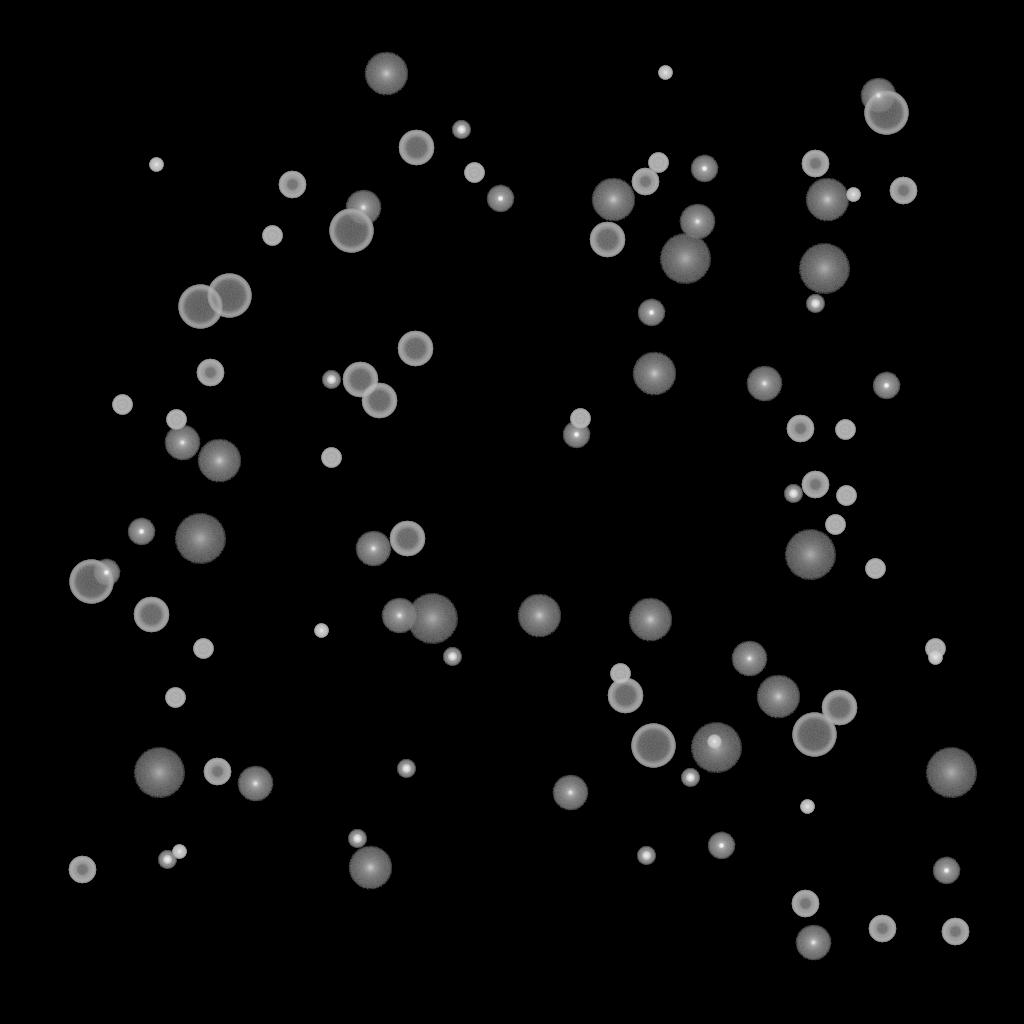depth:-10: (486, 185, 514, 213), (707, 832, 735, 860), (690, 155, 718, 183), (872, 372, 900, 400), (562, 421, 590, 449), (932, 857, 960, 885), (92, 559, 120, 587), (637, 299, 665, 327), (127, 518, 155, 546)
depth:-20: (452, 121, 470, 139), (348, 830, 366, 848), (322, 371, 340, 389), (158, 851, 176, 869), (784, 485, 802, 503), (681, 769, 699, 787), (806, 295, 824, 313), (443, 648, 461, 666), (397, 760, 415, 778), (637, 847, 655, 865)
depth:-30: (149, 158, 163, 172), (928, 651, 942, 665), (658, 66, 672, 80), (314, 624, 328, 638), (800, 800, 814, 814), (707, 735, 721, 749), (846, 188, 860, 202), (172, 845, 186, 859)
depth:-40: (835, 420, 855, 440), (825, 515, 845, 535), (836, 486, 856, 506), (112, 395, 132, 415), (648, 153, 668, 173), (262, 226, 282, 246), (925, 639, 945, 659), (165, 688, 185, 708), (865, 559, 885, 579), (610, 664, 630, 684), (464, 163, 484, 183), (570, 409, 590, 429), (166, 410, 186, 430), (321, 448, 341, 468), (193, 639, 213, 659)
depth:-50: (786, 415, 814, 443), (889, 177, 917, 205), (941, 918, 969, 946), (203, 758, 231, 786), (278, 171, 306, 199), (196, 359, 224, 387), (801, 471, 829, 499), (631, 168, 659, 196), (801, 150, 829, 178), (68, 856, 96, 884), (791, 890, 819, 918), (868, 915, 896, 943)
depth:-60: (342, 362, 378, 398), (607, 678, 643, 714), (389, 521, 425, 557), (361, 383, 397, 419), (133, 597, 169, 633), (398, 130, 434, 166), (589, 222, 625, 258), (397, 331, 433, 367), (821, 690, 857, 726)
depth:-70: (792, 713, 836, 757), (864, 91, 908, 135), (631, 724, 675, 768), (329, 209, 373, 253), (178, 285, 222, 329), (207, 274, 251, 318), (69, 560, 113, 604)
depth:0: (345, 190, 381, 226), (237, 766, 273, 802), (746, 366, 782, 402), (552, 775, 588, 811), (860, 78, 896, 114), (795, 925, 831, 961), (679, 204, 715, 240), (164, 425, 200, 461), (731, 641, 767, 677), (355, 531, 391, 567), (381, 598, 417, 634)
depth:10: (756, 675, 800, 719), (364, 52, 408, 96), (197, 439, 241, 483), (805, 178, 849, 222), (348, 846, 392, 890), (628, 598, 672, 642), (591, 178, 635, 222), (517, 594, 561, 638), (632, 352, 676, 396)
depth:20: (406, 594, 458, 644), (659, 234, 711, 284), (784, 530, 836, 580), (690, 723, 742, 773), (925, 748, 977, 798), (798, 244, 850, 294), (174, 514, 226, 564), (133, 748, 185, 798)
